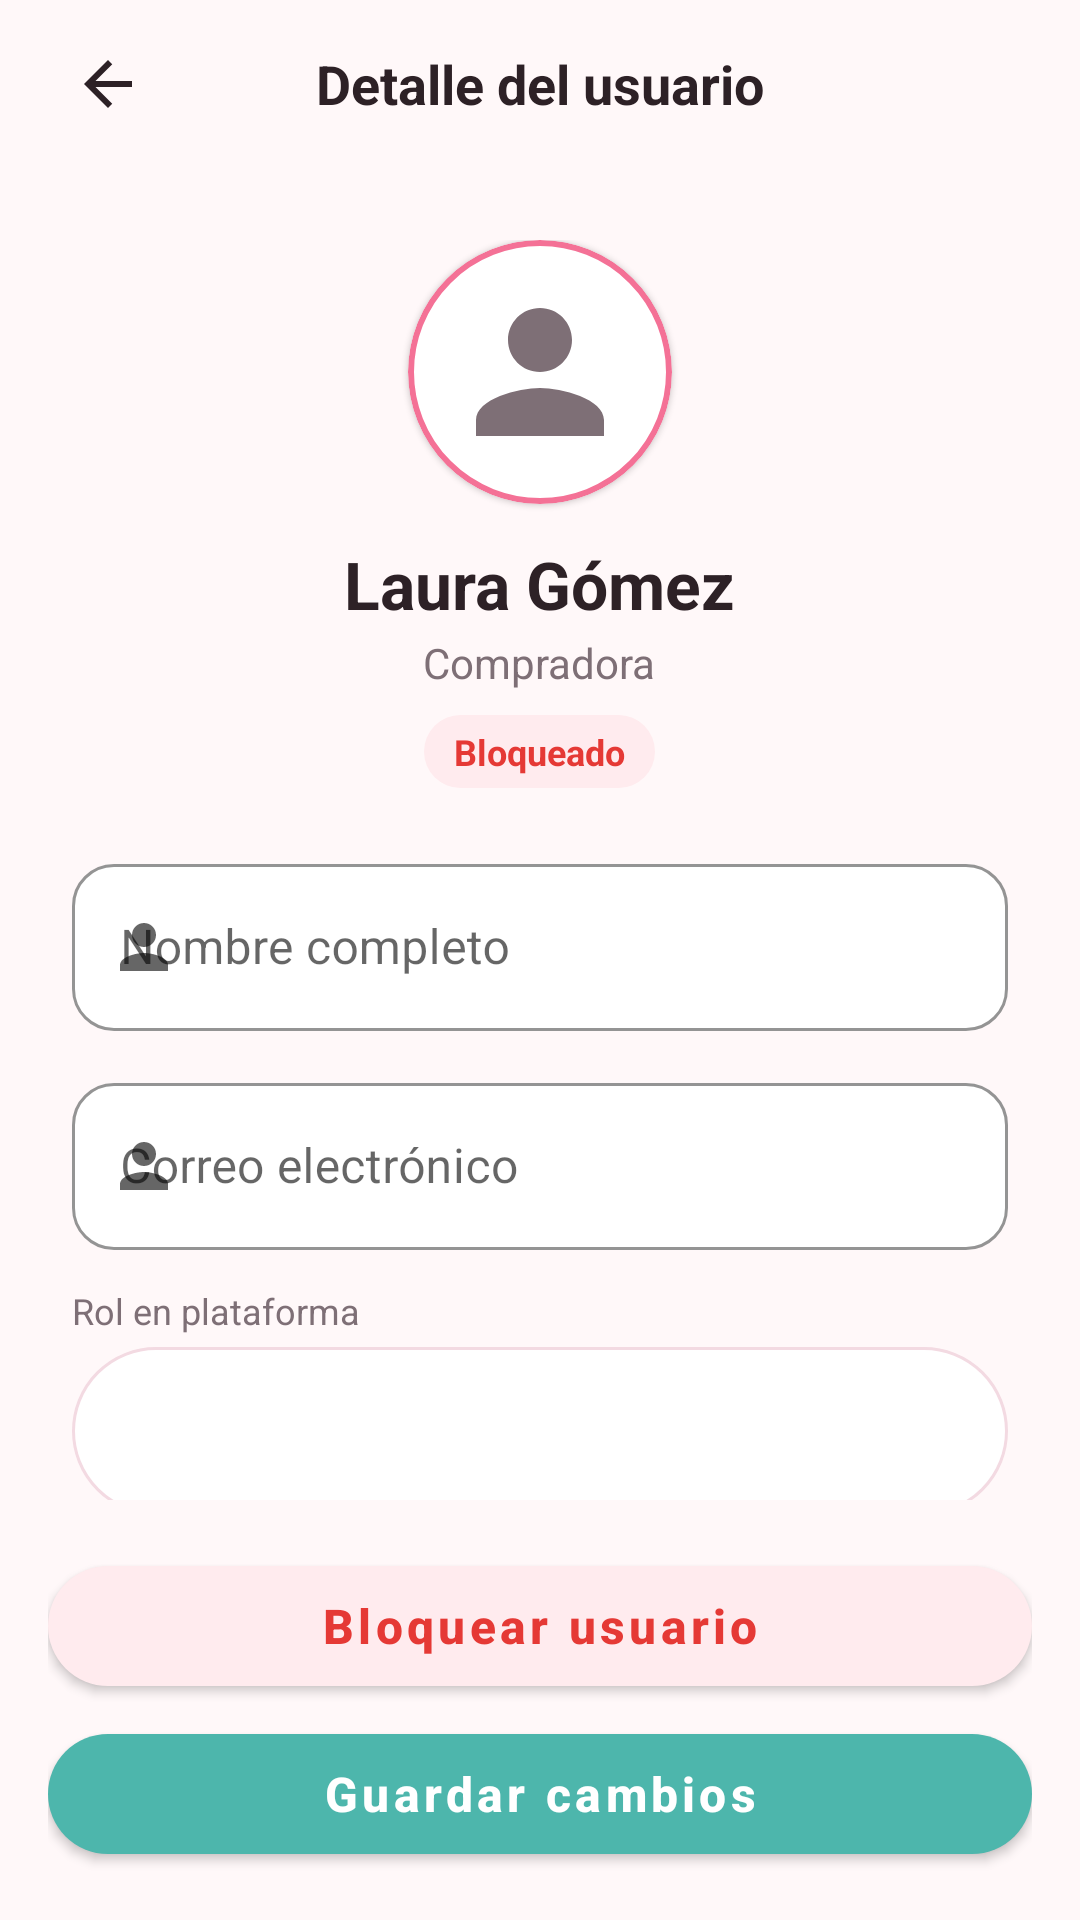

Locate icon controls on the screen. Image size 1080*1920, boxes as region(x1, y1, x2, y2).
Avatar: region(408, 240, 672, 504)
Volver: region(84, 60, 132, 108)
